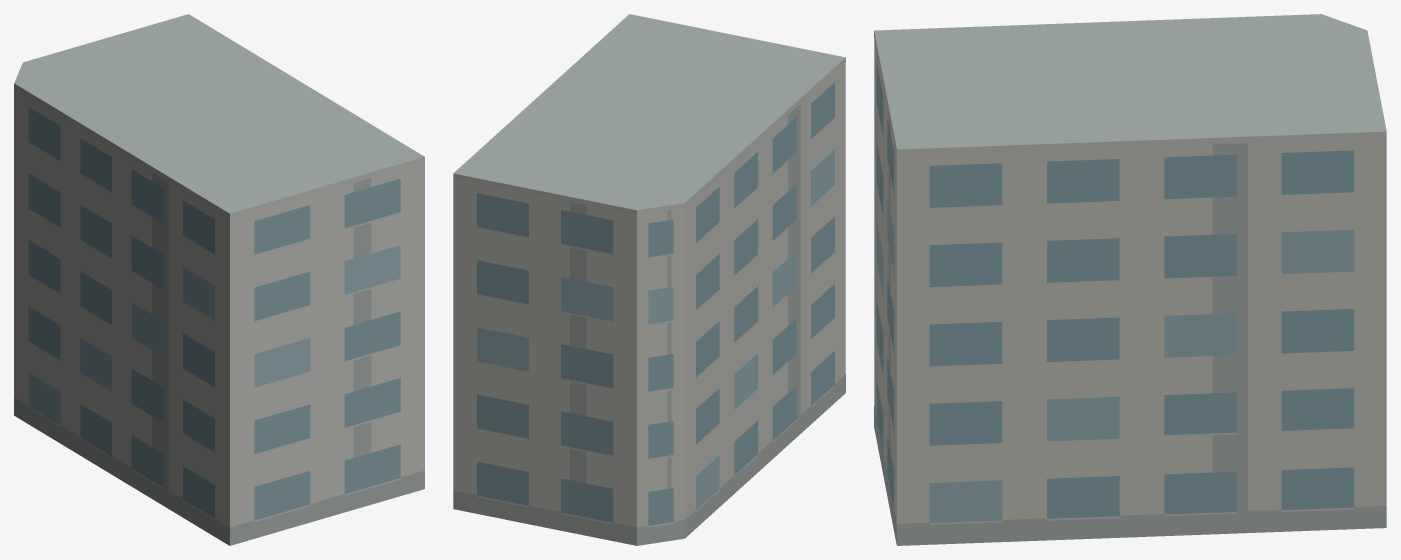
The model's file is survey-upis-32575786.glb.
3 views of the same model, side by side, from view 1: azimuth 30°, elevation 25°; view 2: azimuth 150°, elevation 25°; view 3: azimuth 270°, elevation 25° (orthographic). The views are drawn at different scales.
Visible parts, largest first — view 1: survey-upis-32575786.tmp; view 2: survey-upis-32575786.tmp; view 3: survey-upis-32575786.tmp.
Part boxes in pixels (left/top/right/bottom): survey-upis-32575786.tmp: left=14, top=14, right=424, bottom=545; survey-upis-32575786.tmp: left=453, top=14, right=845, bottom=545; survey-upis-32575786.tmp: left=874, top=14, right=1386, bottom=545.
Size of the model in its own units: 10.94 by 14.9 by 17.47.
